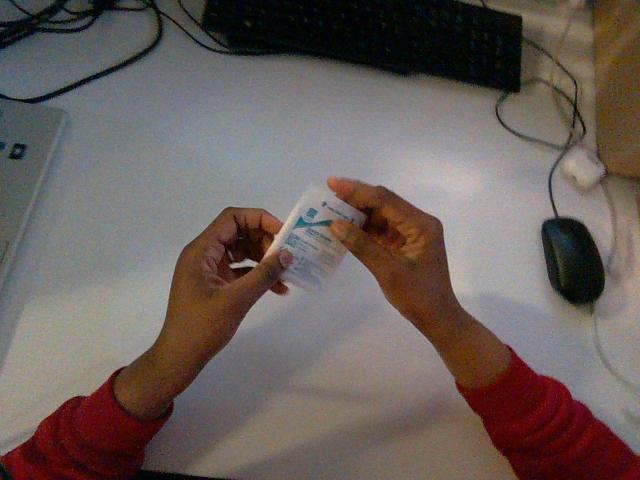gauze: (265, 185, 365, 290)
